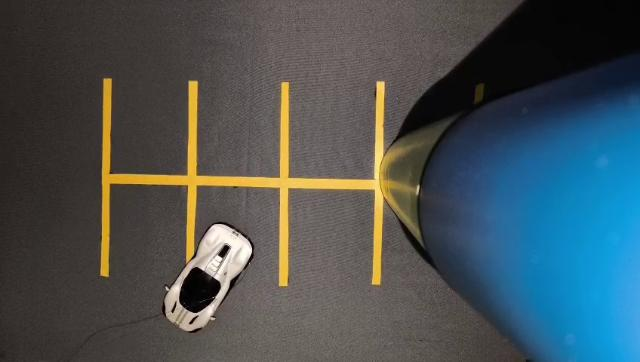toy_car: (139, 212, 282, 338)
